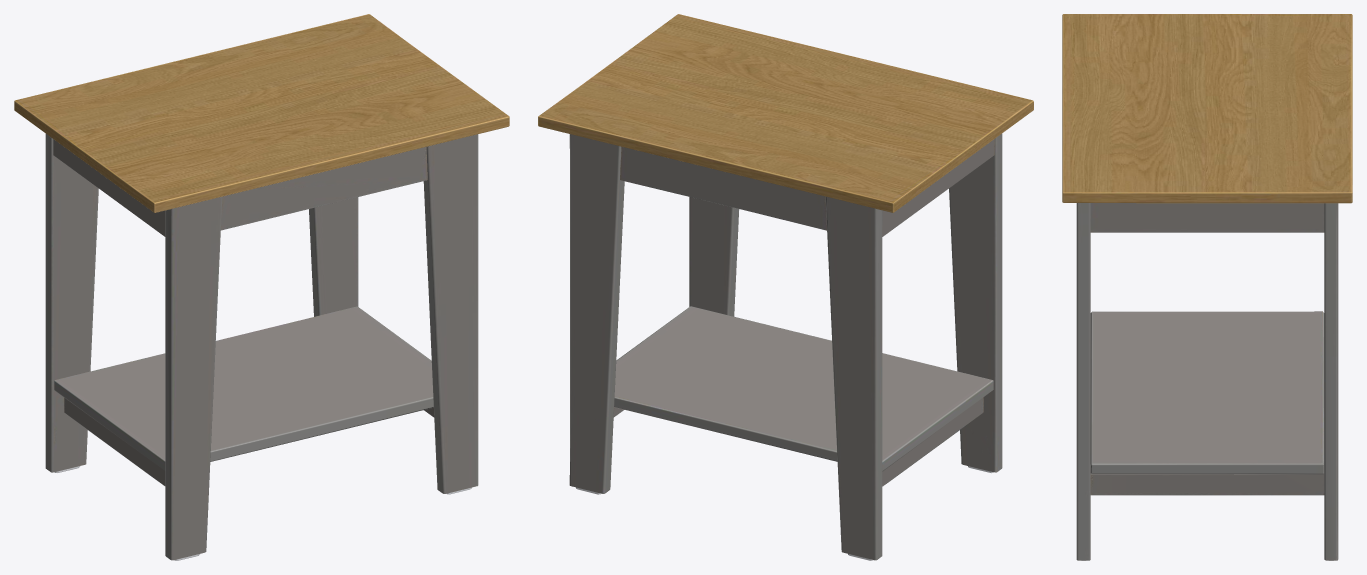
File: aemmaryd_side_table_gray.glb
The picture shows the model from 3 angles, left to right: view 1: azimuth 30°, elevation 25°; view 2: azimuth 150°, elevation 25°; view 3: azimuth 270°, elevation 25°; orthographic projection. The views are drawn at different scales.
Parts seen in each view (by area): view 1: ASY_ART_70609122_S01_NV01; view 2: ASY_ART_70609122_S01_NV01; view 3: ASY_ART_70609122_S01_NV01.
Part boxes in pixels (left/top/right/bottom): ASY_ART_70609122_S01_NV01: left=14, top=14, right=509, bottom=560; ASY_ART_70609122_S01_NV01: left=538, top=14, right=1033, bottom=560; ASY_ART_70609122_S01_NV01: left=1062, top=14, right=1352, bottom=560.
Size of the model in its own units: 0.585 by 0.5833 by 0.4001.
Materials: 1 (1 with a texture image).
